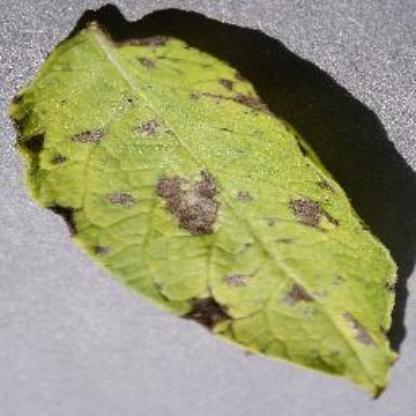Early-Blight: (8, 1, 412, 401)
